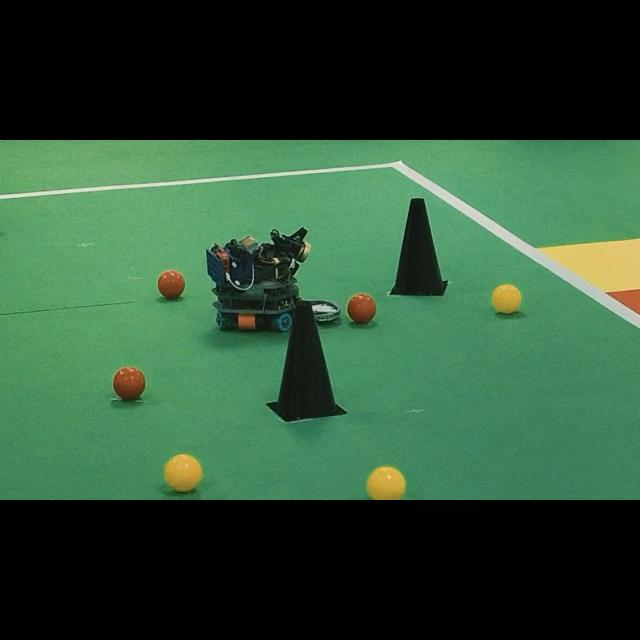ball: (164, 454, 202, 492), (366, 466, 405, 500), (114, 368, 145, 400), (348, 292, 376, 323), (492, 284, 521, 313), (158, 270, 185, 299)
goal: (539, 239, 640, 313), (608, 289, 640, 313)
